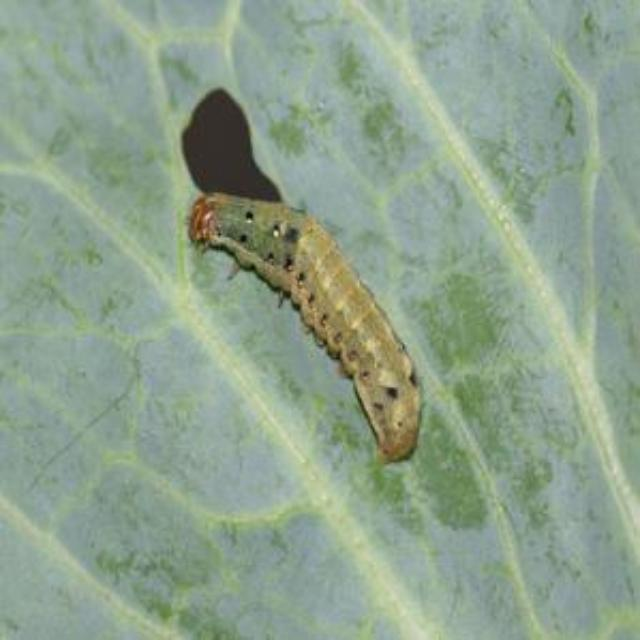Tobacco cutworm: (133, 147, 469, 476)
